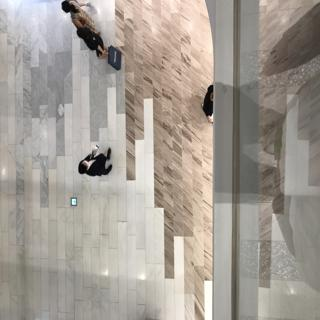person: (75, 141, 124, 193), (57, 1, 107, 32), (71, 27, 116, 60)
